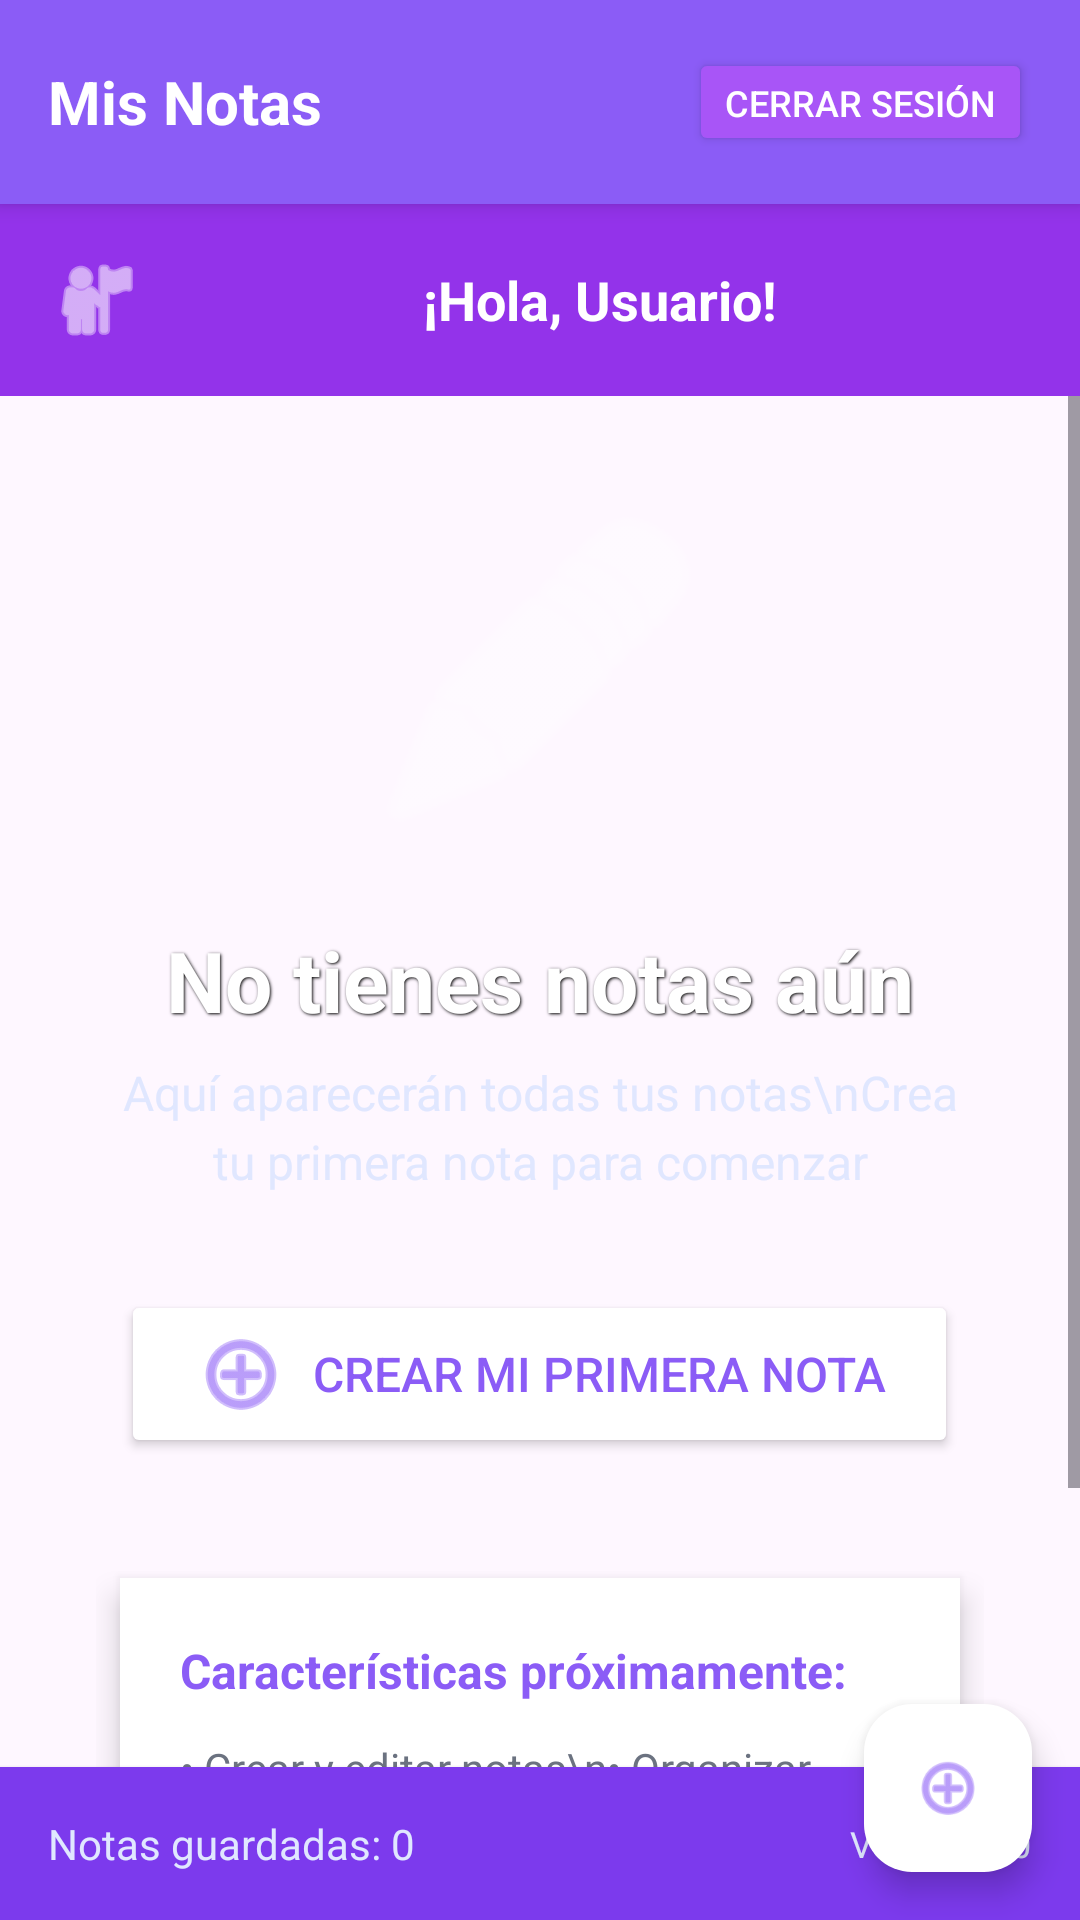

Where to tap for icons on this 1080×1920 app screen, as [x,y]:
Agregar nueva nota: [948,1788]
